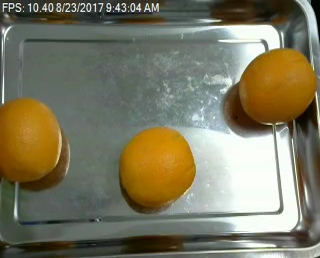Orange: (119, 126, 196, 206), (239, 47, 317, 124), (0, 97, 61, 182)
